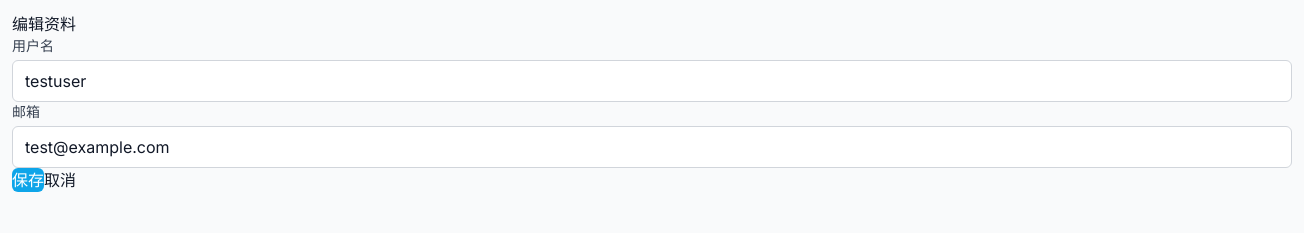
ProfileForm - 字段验证 › 太短的用户名应该显示验证错误
Replace the text in the field labelled "用户名" with "ab". click: point(652, 81)
box: 12,60 -> 1292,102
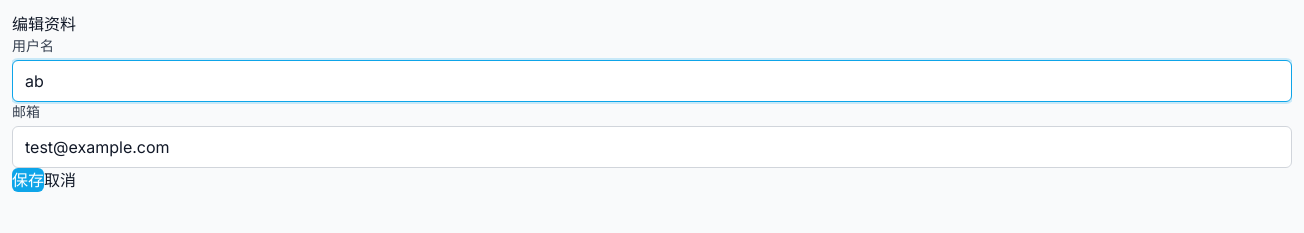
Click the button "保存". click: point(28, 180)
box: 12,168 -> 44,192
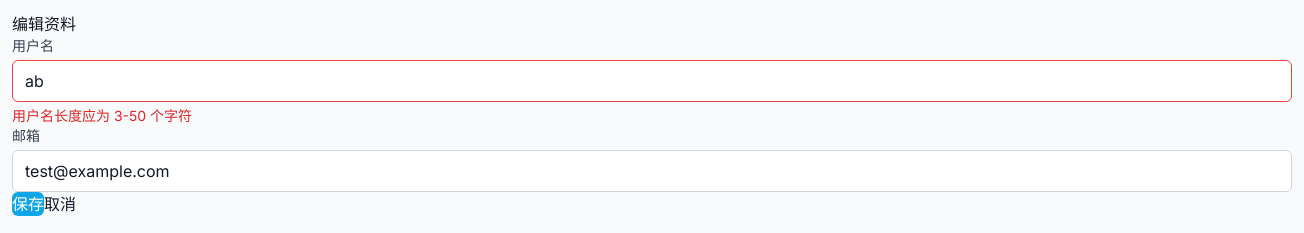
Expected: the text "用户名长度应为 3-50 个字符" is shown, 12,107 -> 192,124
